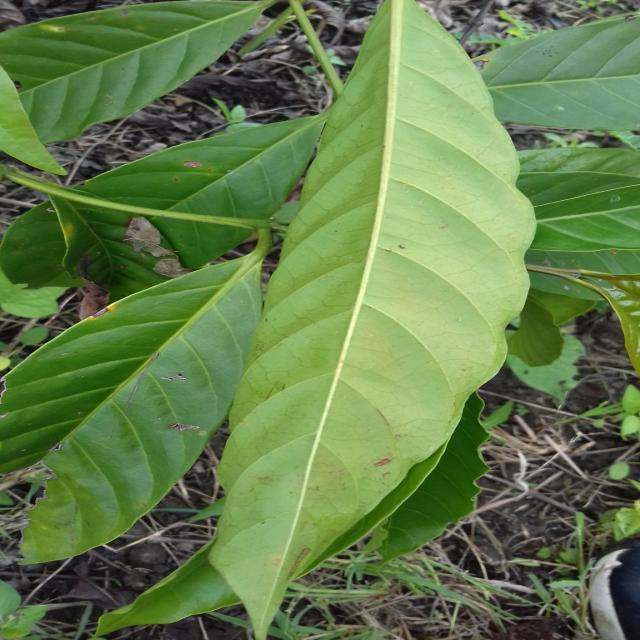Enfermedad-Roya: (121, 0, 538, 640)
